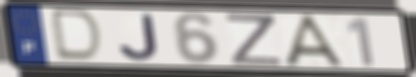1: (346, 16, 376, 68)
6: (172, 10, 222, 67)
A: (281, 13, 352, 70)
D: (51, 8, 107, 64)
J: (116, 13, 162, 63)
Z: (223, 12, 285, 67)
